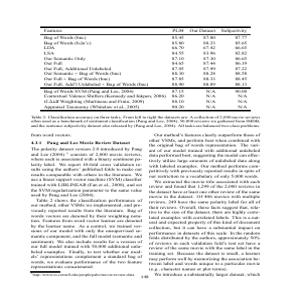table: (36, 21, 252, 115)
text: (147, 132, 261, 278), (27, 133, 143, 272), (29, 114, 260, 131)
